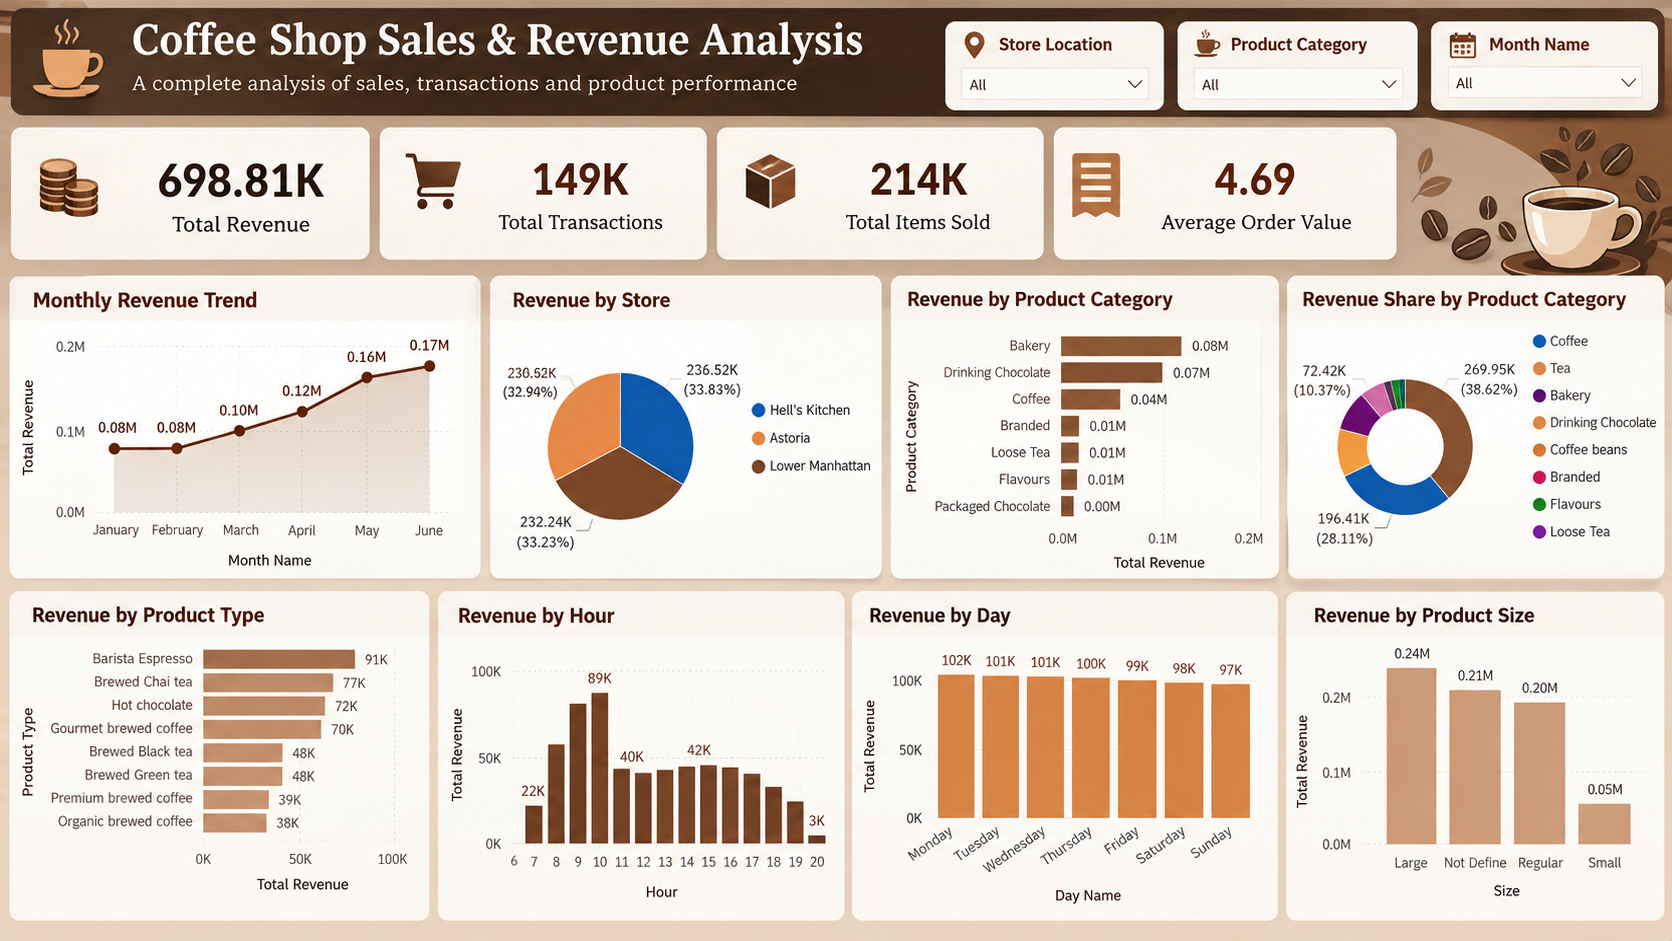

The dashboard page shown, as its layout file describes it:
{"tool":"powerbi","page":{"name":"Page 1","canvas":[1280,720],"ordinal":0},"visuals":[{"type":"card","fields":{"Values":["Coffee_sales.Total Revenue"]},"box":[0,80.2,171.6,94.8],"z":0},{"type":"card","fields":{"Values":["Coffee_sales.Total Transactions"]},"box":[184.1,80.2,188.6,94.8],"z":1000},{"type":"card","fields":{"Values":["Coffee_sales.Total Items Sold"]},"box":[381.7,80.2,203.2,94.8],"z":2000},{"type":"card","fields":{"Values":["Coffee_sales.Average Order Value"]},"box":[597.3,80.2,199.9,94.8],"z":3000},{"type":"lineChart","title":"Monthly Revenue Trend","fields":{"Y":["Coffee_sales.Total Revenue"],"Category":["Coffee_sales.Month Name"]},"box":[0,184,235,255],"z":4000},{"type":"pieChart","title":" Revenue by store","fields":{"Category":["Coffee_sales.store_location"],"Y":["Coffee_sales.Total Revenue"]},"box":[242,185,262,254],"z":5000},{"type":"clusteredBarChart","title":"Revenue by product category","fields":{"Category":["Coffee_sales.product_category"],"Y":["Coffee_sales.Total Revenue"]},"box":[511,185,249,254],"z":6000},{"type":"clusteredBarChart","title":"Revenue by product type","fields":{"Category":["Coffee_sales.product_type"],"Y":["Coffee_sales.Total Revenue"]},"box":[0,447,288,273],"z":7000},{"type":"clusteredColumnChart","title":"Revenue by Hour","fields":{"Category":["Coffee_sales.Hour"],"Y":["Coffee_sales.Total Revenue"]},"box":[300,447,315,273],"z":8000},{"type":"clusteredColumnChart","title":"Revenue by Day ","fields":{"Category":["Coffee_sales.Day Name"],"Y":["Coffee_sales.Total Revenue"]},"box":[628,447,316,273],"z":9000},{"type":"clusteredColumnChart","title":"Revenue by  Product Size","fields":{"Category":["Coffee_sales.Size"],"Y":["Coffee_sales.Total Revenue"]},"box":[954,447,326,273],"z":10000},{"type":"donutChart","title":"Revenue  share by product category","fields":{"Category":["Coffee_sales.product_category"],"Y":["Coffee_sales.Total Revenue"]},"box":[770,184,235,255],"z":11000},{"type":"slicer","fields":{"Values":["Coffee_sales.store_location"]},"box":[802,3,203,172],"z":12000},{"type":"slicer","fields":{"Values":["Coffee_sales.product_category"]},"box":[1012,91,268,348],"z":13000},{"type":"slicer","fields":{"Values":["Coffee_sales.Month Name"]},"box":[1005,0,275,87],"z":14000},{"type":"textbox","box":[0,0,797,76],"z":15000}]}

Visuals, with their boxes in screenshot pixels (x1, y1, x2, y2), scaled from the page's 1280x720 canvas onto the 1672x941 screenshot:
card - Coffee_sales.Total Revenue: 0 105 224 229
card - Coffee_sales.Total Transactions: 240 105 487 229
card - Coffee_sales.Total Items Sold: 499 105 764 229
card - Coffee_sales.Average Order Value: 780 105 1041 229
"Monthly Revenue Trend" lineChart: 0 240 307 574
" Revenue by store" pieChart: 316 242 658 574
"Revenue by product category" clusteredBarChart: 667 242 993 574
"Revenue by product type" clusteredBarChart: 0 584 376 940
"Revenue by Hour" clusteredColumnChart: 392 584 803 940
"Revenue by Day " clusteredColumnChart: 820 584 1233 940
"Revenue by  Product Size" clusteredColumnChart: 1246 584 1671 940
"Revenue  share by product category" donutChart: 1006 240 1313 574
slicer - Coffee_sales.store_location: 1048 4 1313 229
slicer - Coffee_sales.product_category: 1322 119 1671 574
slicer - Coffee_sales.Month Name: 1313 0 1671 114
textbox: 0 0 1041 99
